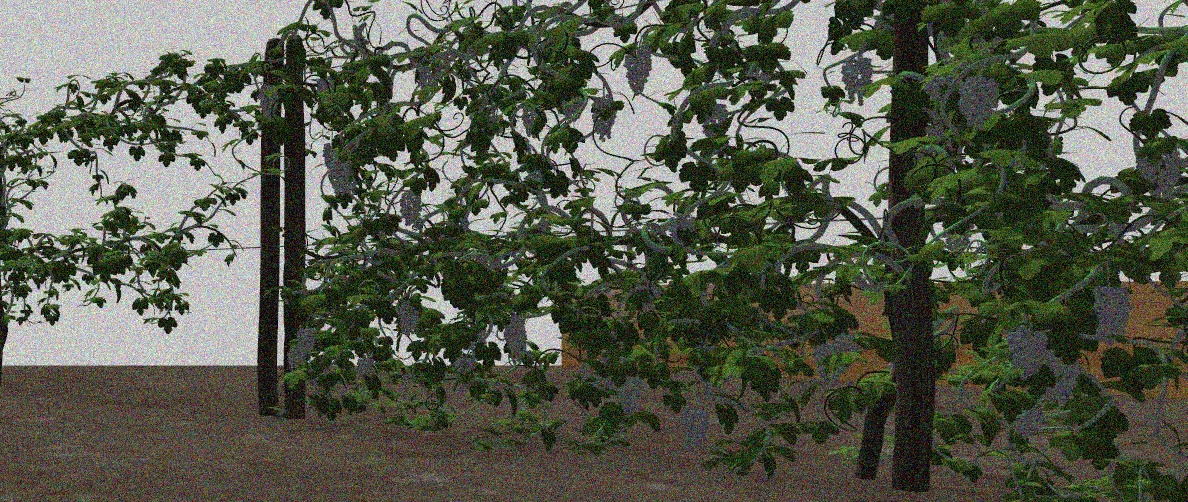grape: (1091, 284, 1132, 346), (1006, 321, 1049, 380), (1138, 144, 1183, 198), (956, 74, 1002, 125), (1046, 354, 1080, 408), (841, 55, 874, 105), (614, 366, 645, 418), (321, 143, 352, 194), (622, 46, 654, 94), (678, 406, 710, 449), (591, 96, 618, 143), (831, 335, 859, 377), (505, 318, 528, 362), (399, 188, 423, 226), (395, 302, 421, 335), (453, 354, 476, 391), (259, 84, 279, 120), (522, 105, 540, 138), (813, 346, 832, 376), (297, 327, 316, 354), (356, 354, 376, 379), (287, 346, 307, 369)
